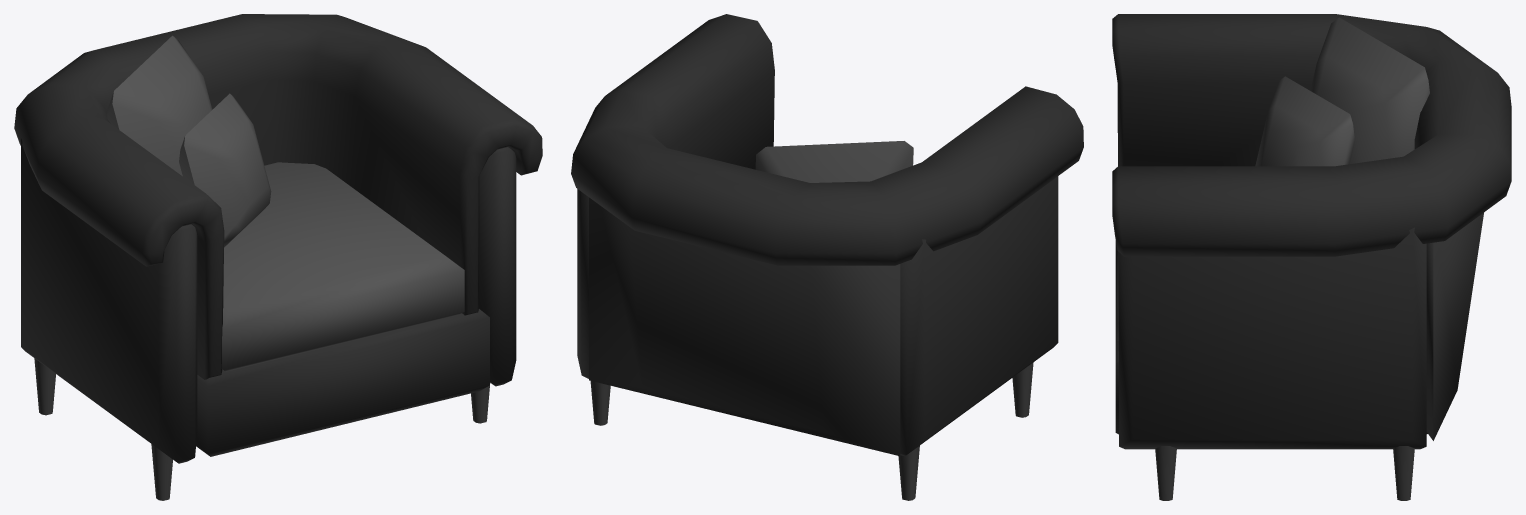
The model's file is armchair004.glb.
3 views of the same model, side by side, from view 1: azimuth 30°, elevation 25°; view 2: azimuth 150°, elevation 25°; view 3: azimuth 270°, elevation 25° (orthographic). The views are drawn at different scales.
Visible parts, largest first — view 1: armchair.004; view 2: armchair.004; view 3: armchair.004.
Part boxes in pixels (x1=…): armchair.004: x1=14, y1=14, x2=542, y2=500; armchair.004: x1=571, y1=14, x2=1083, y2=500; armchair.004: x1=1112, y1=14, x2=1511, y2=500.
Bounding box in the file's own units: 1.06 × 0.8453 × 0.8962.
1 material, 1 textured.
